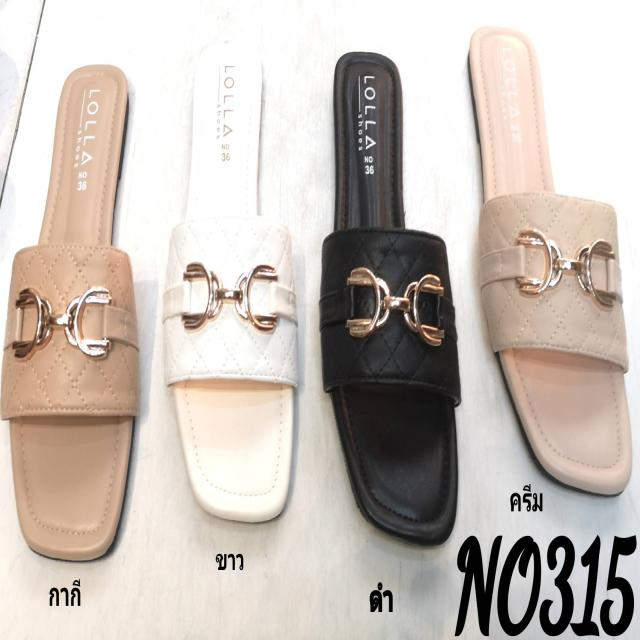black: (329, 55, 458, 547)
cream: (472, 14, 628, 495)
kakee: (11, 60, 131, 561)
white: (174, 39, 292, 526)
